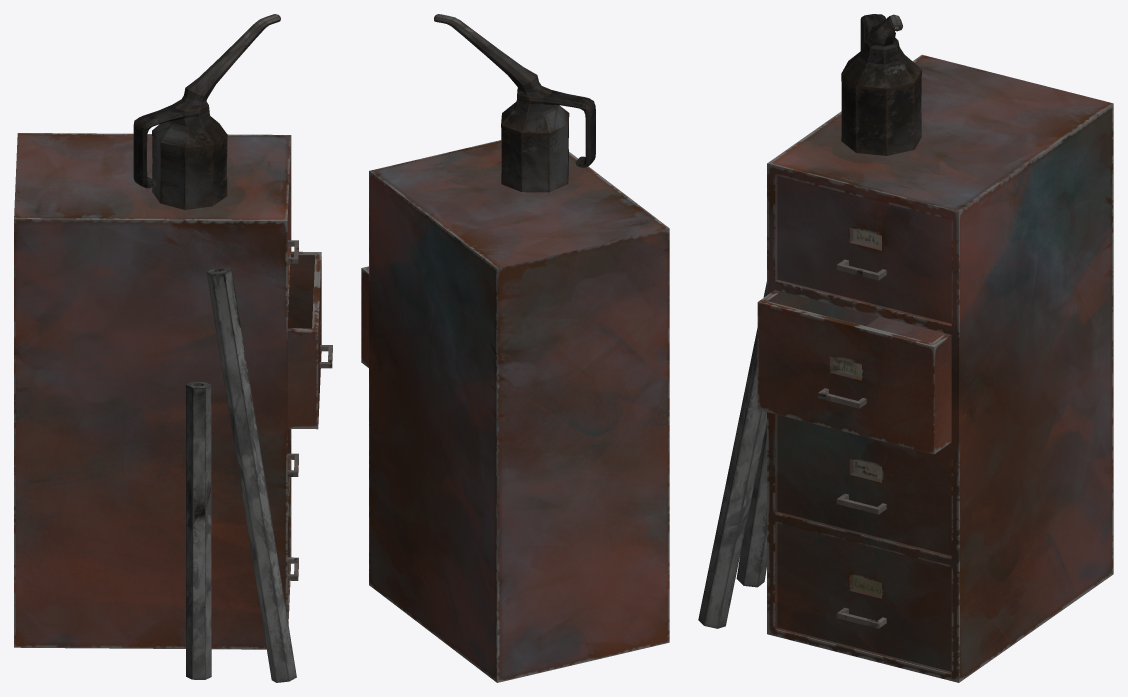
File: Metal_Cabinet_Open_Set.fbx
3 renders of one model, left to right at view 1: azimuth 30°, elevation 25°; view 2: azimuth 150°, elevation 25°; view 3: azimuth 270°, elevation 25°, orthographic. The views are drawn at different scales.
Parts seen in each view (by area): view 1: Metal_Cabinet, Metal.Tube.002, Oil Can, Metal.Tube.004; view 2: Metal_Cabinet, Oil Can; view 3: Metal_Cabinet, Oil Can, Metal.Tube.002, Metal.Tube.004.
Part boxes in pixels (x1,y1,x2,y2): Metal_Cabinet: (14,133,332,649); Metal.Tube.002: (206,267,296,682); Oil Can: (133,14,280,209); Metal.Tube.004: (186,381,211,679); Metal_Cabinet: (361,140,669,682); Oil Can: (434,14,595,192); Metal_Cabinet: (757,54,1113,682); Oil Can: (841,14,921,155); Metal.Tube.002: (698,282,766,628); Metal.Tube.004: (736,424,766,587).
Bounding box in the file's own units: 79.3 × 142 × 82.98.
